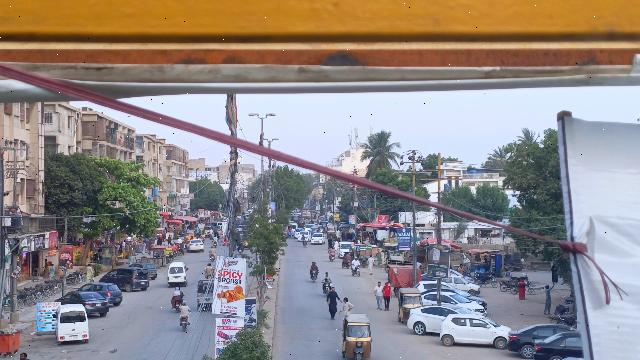Bike: (179, 316, 189, 334), (309, 269, 320, 284), (351, 264, 361, 279), (173, 299, 182, 315), (323, 282, 331, 296)
Car: (438, 312, 510, 347), (507, 322, 565, 358), (406, 304, 468, 337), (421, 291, 486, 315), (531, 331, 584, 360), (52, 291, 110, 317), (99, 266, 150, 293), (80, 282, 123, 305)
Person: (540, 284, 555, 315), (326, 286, 340, 319), (373, 280, 384, 312), (339, 294, 354, 317), (383, 281, 392, 311), (170, 285, 185, 302), (83, 261, 95, 281), (366, 253, 376, 275), (180, 299, 191, 317), (322, 271, 332, 284), (351, 256, 361, 268), (309, 260, 319, 271)
Rickshaw: (339, 313, 375, 360), (396, 285, 423, 323), (194, 279, 215, 312)
Van: (53, 303, 90, 344), (165, 261, 189, 289)
